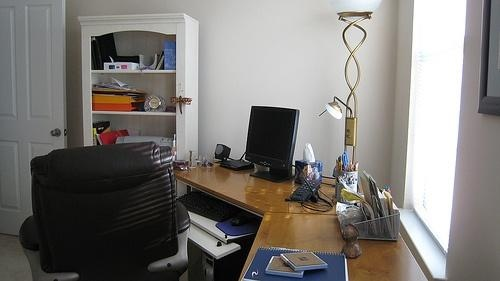chair: (19, 141, 191, 281)
tvmonitor: (246, 106, 301, 183)
